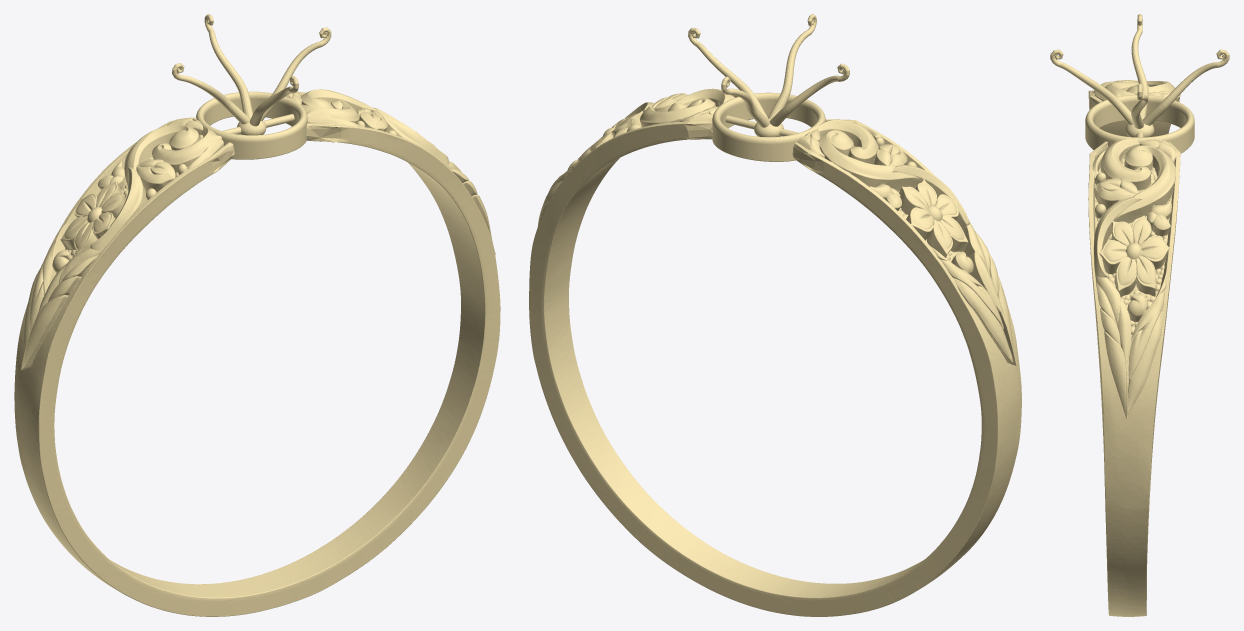
Rendered from solitaire2_ivy_curl_ring_nostone.glb.
The picture shows the model from 3 angles, left to right: view 1: azimuth 30°, elevation 25°; view 2: azimuth 150°, elevation 25°; view 3: azimuth 270°, elevation 25°; orthographic projection. The views are drawn at different scales.
Parts seen in each view (by area): view 1: ring_mm; view 2: ring_mm; view 3: ring_mm.
Part boxes in pixels (bbox=[...]): ring_mm: bbox=[14, 14, 500, 616]; ring_mm: bbox=[529, 14, 1021, 616]; ring_mm: bbox=[1050, 14, 1229, 616].
Bounding box in the file's own units: 18.67 × 20.85 × 6.24.
